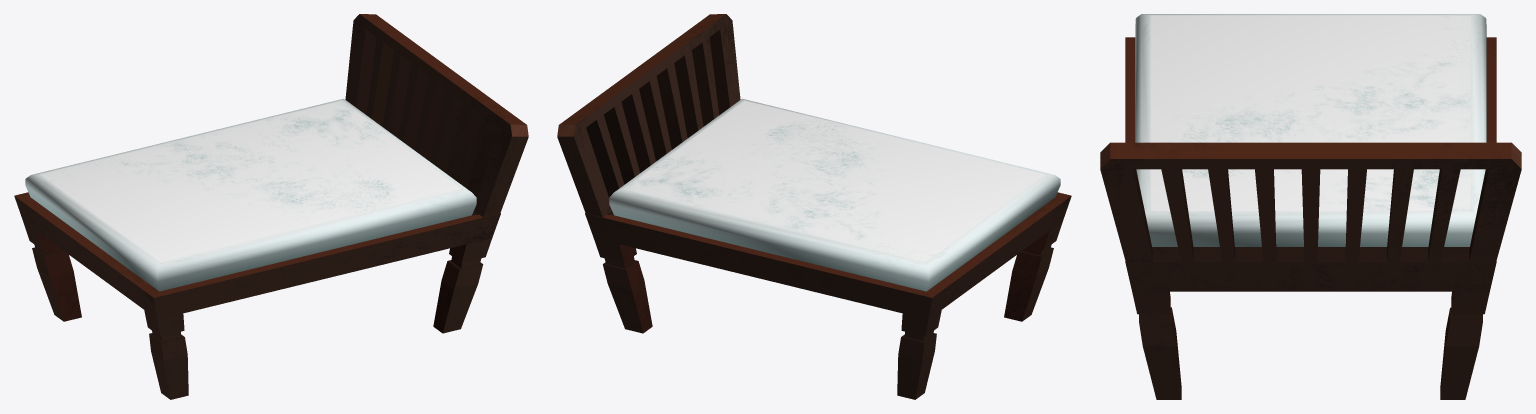
3 renders of one model, left to right at view 1: azimuth 30°, elevation 25°; view 2: azimuth 150°, elevation 25°; view 3: azimuth 270°, elevation 25°, orthographic. The views are drawn at different scales.
Visible parts, largest first — view 1: 침대; view 2: 침대; view 3: 침대.
Boxes of the visible parts, bbox=[...] form: 침대: bbox=[14, 14, 528, 399]; 침대: bbox=[557, 14, 1071, 399]; 침대: bbox=[1100, 14, 1521, 399].
Bounding box in the file's own units: 777 × 423 × 581.
1 material, 1 textured.
